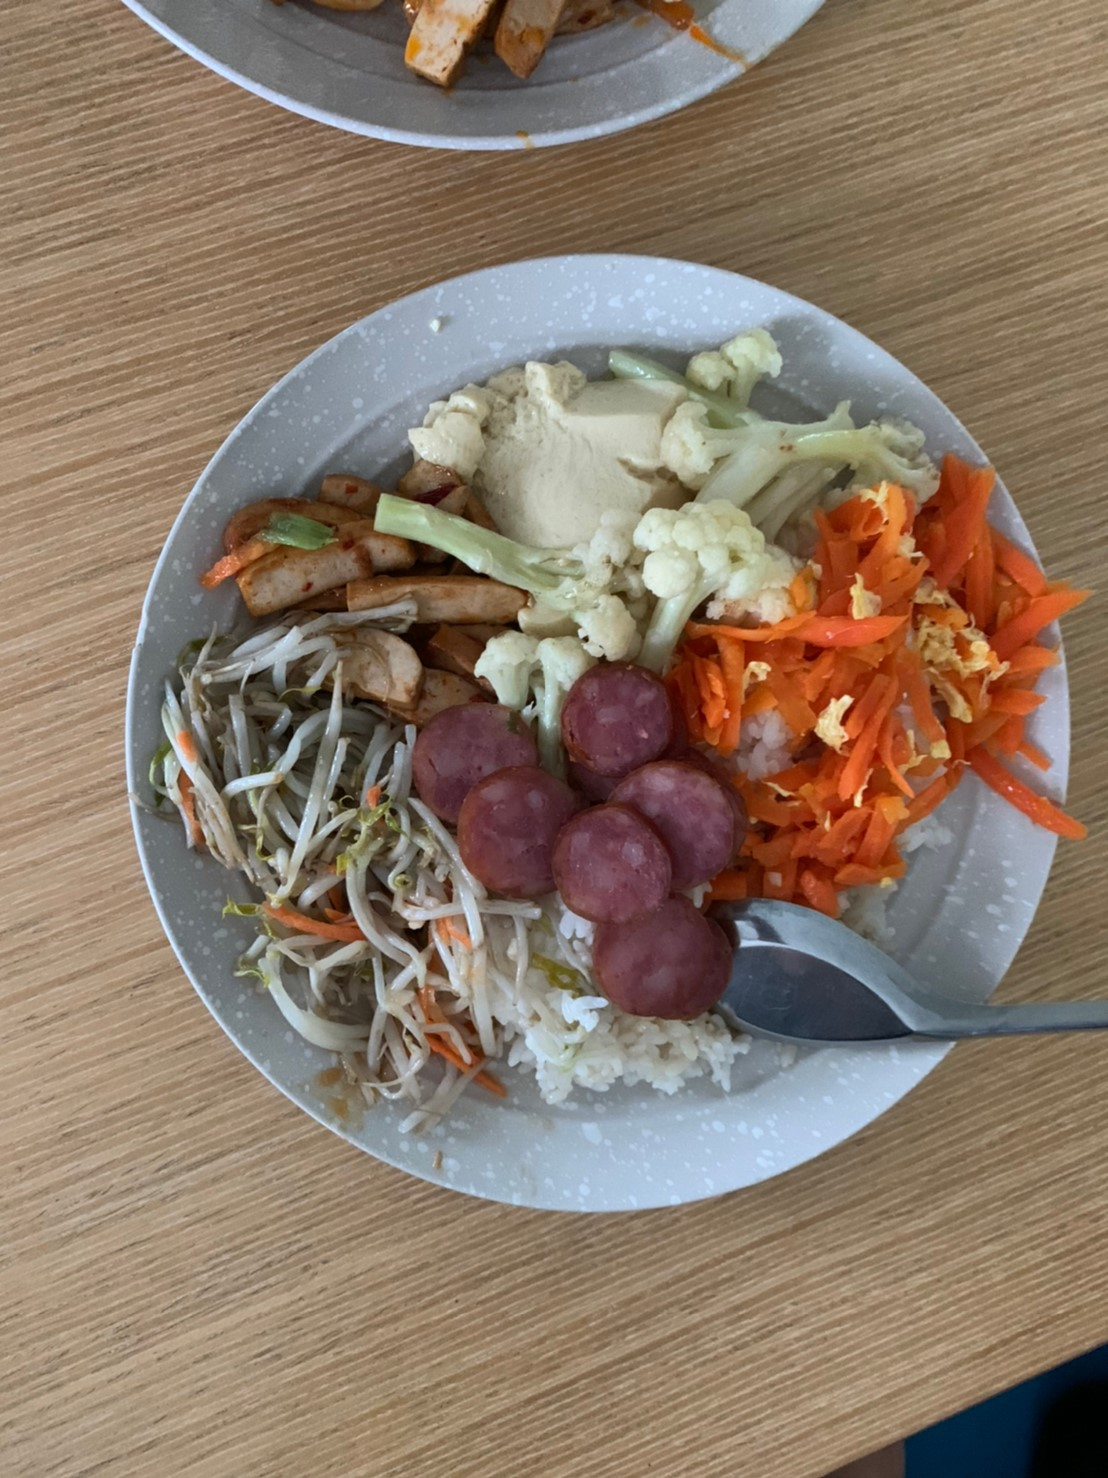carrot_eggs: (694, 460, 1061, 900)
chinese_sausage: (431, 660, 747, 1018)
mung_bean_sprouts: (176, 630, 480, 1073)
